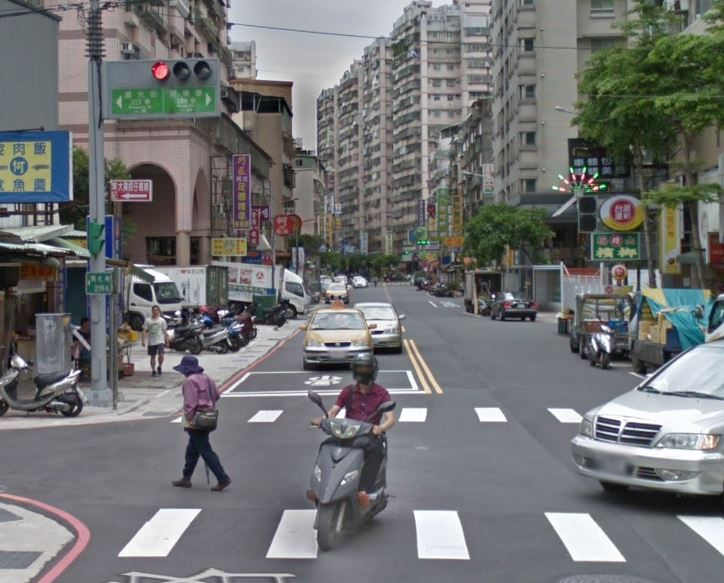Traffic_light_red: (149, 59, 213, 84)
